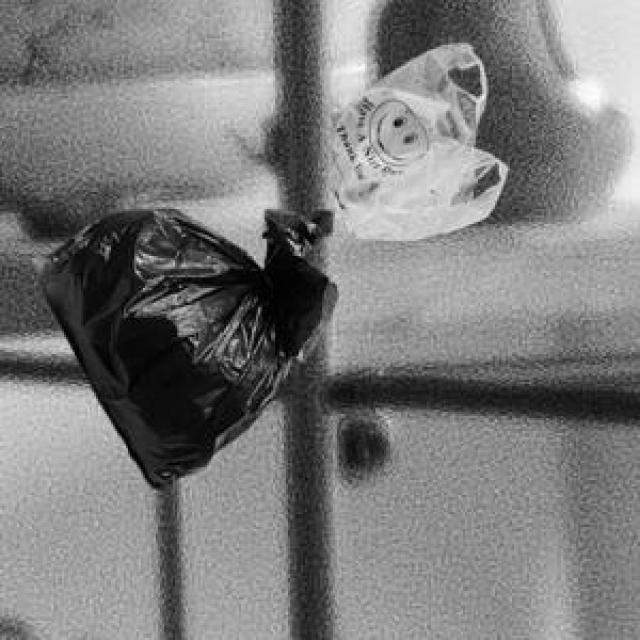miscellaneous trash: (30, 205, 333, 484)
